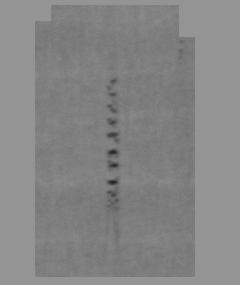oxl: (35, 10, 205, 275)
